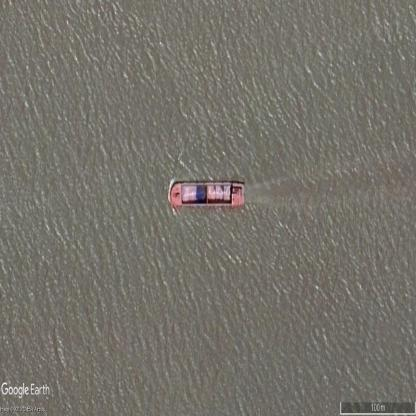ship: (170, 177, 246, 212)
